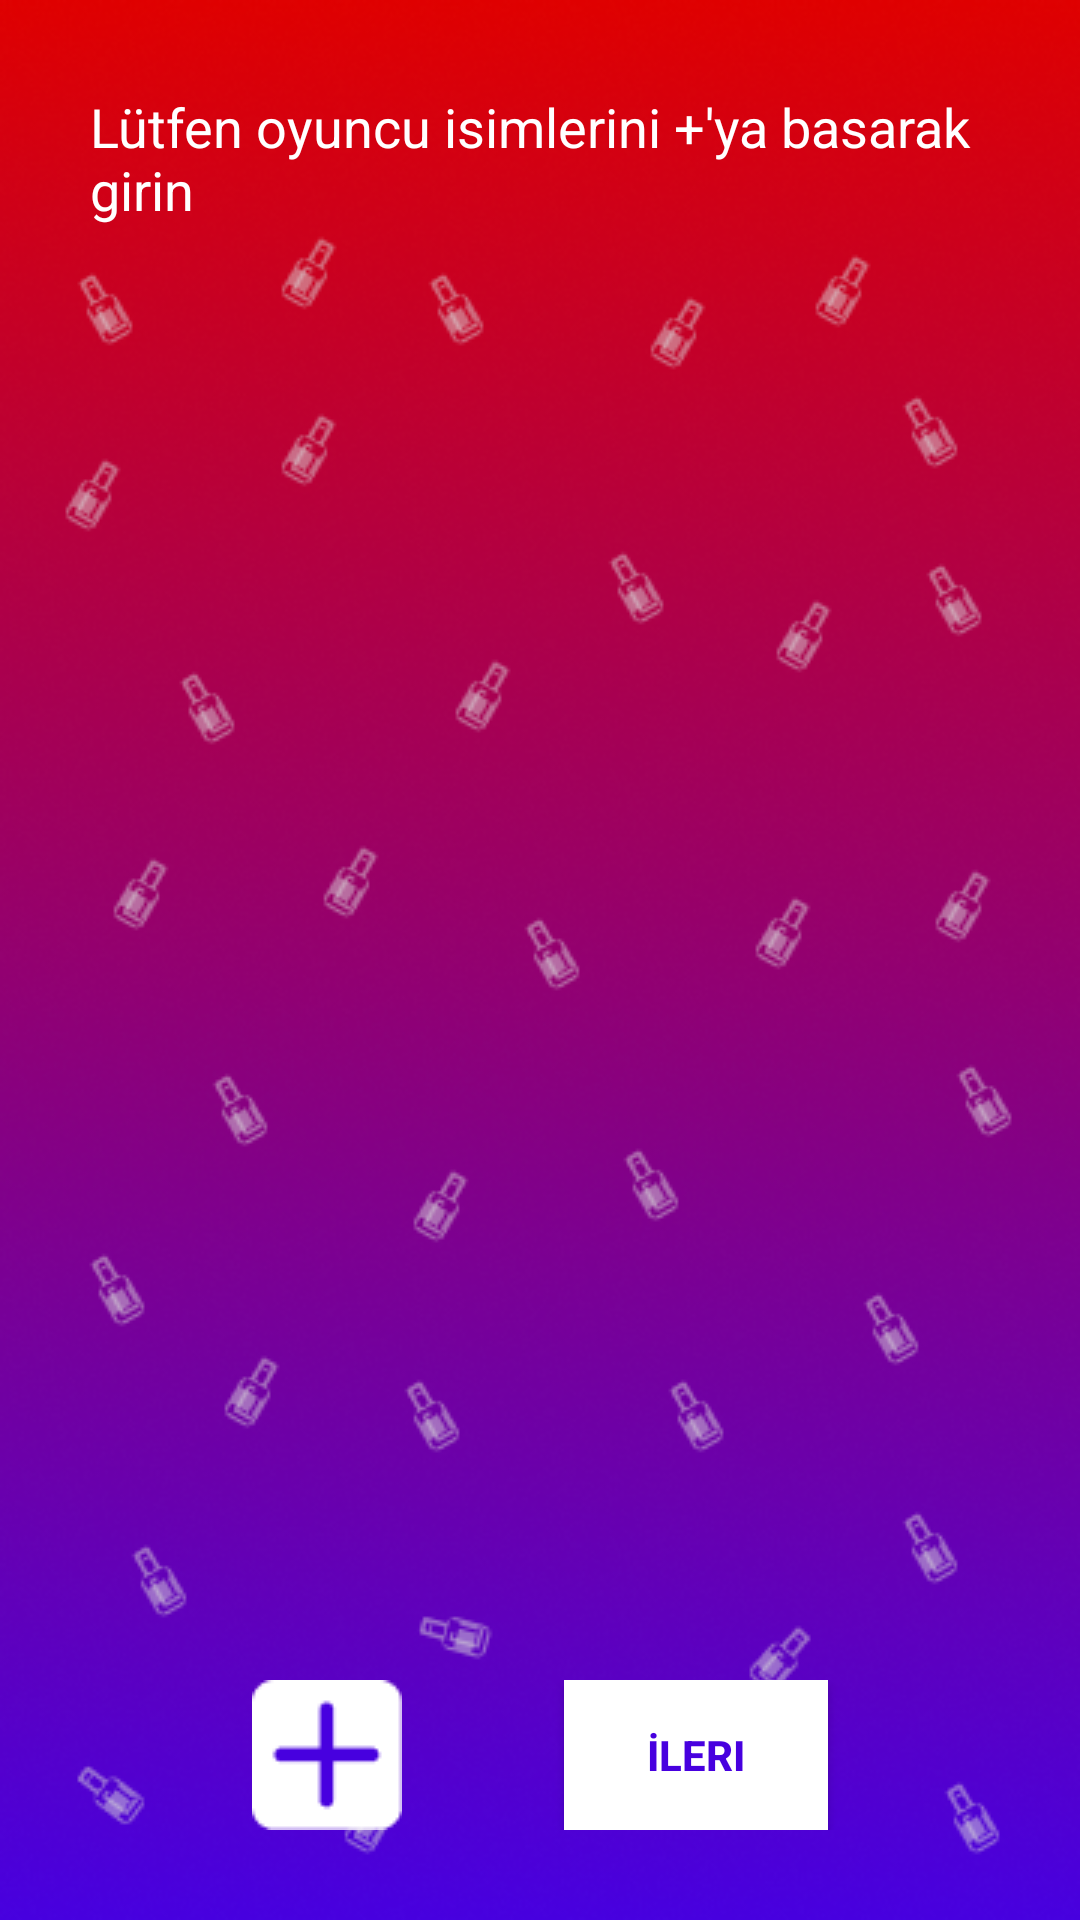

Where icons sit on this 1080x1920 app screen, as (x1, y1, x2, y2):
plus: (252, 1680, 402, 1830)
